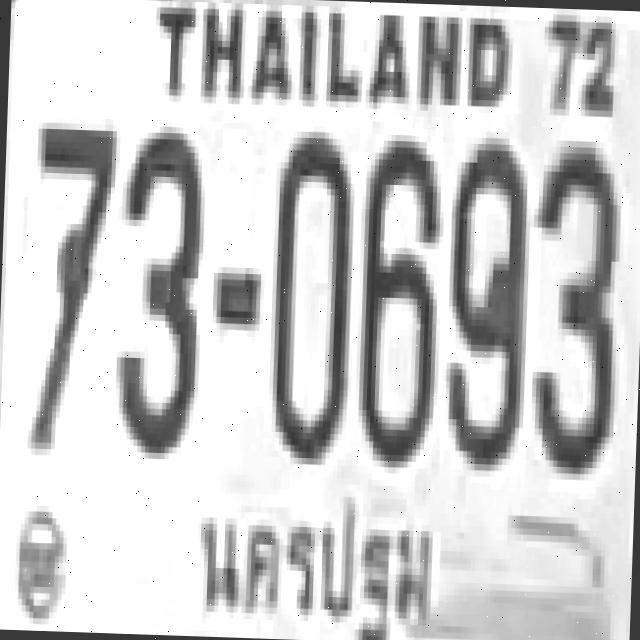0: (266, 130, 352, 459)
3: (527, 140, 621, 468), (109, 125, 203, 448)
6: (352, 133, 438, 462)
7: (22, 119, 112, 448)
9: (441, 136, 527, 465)
NakhonPathom: (183, 485, 451, 640)
